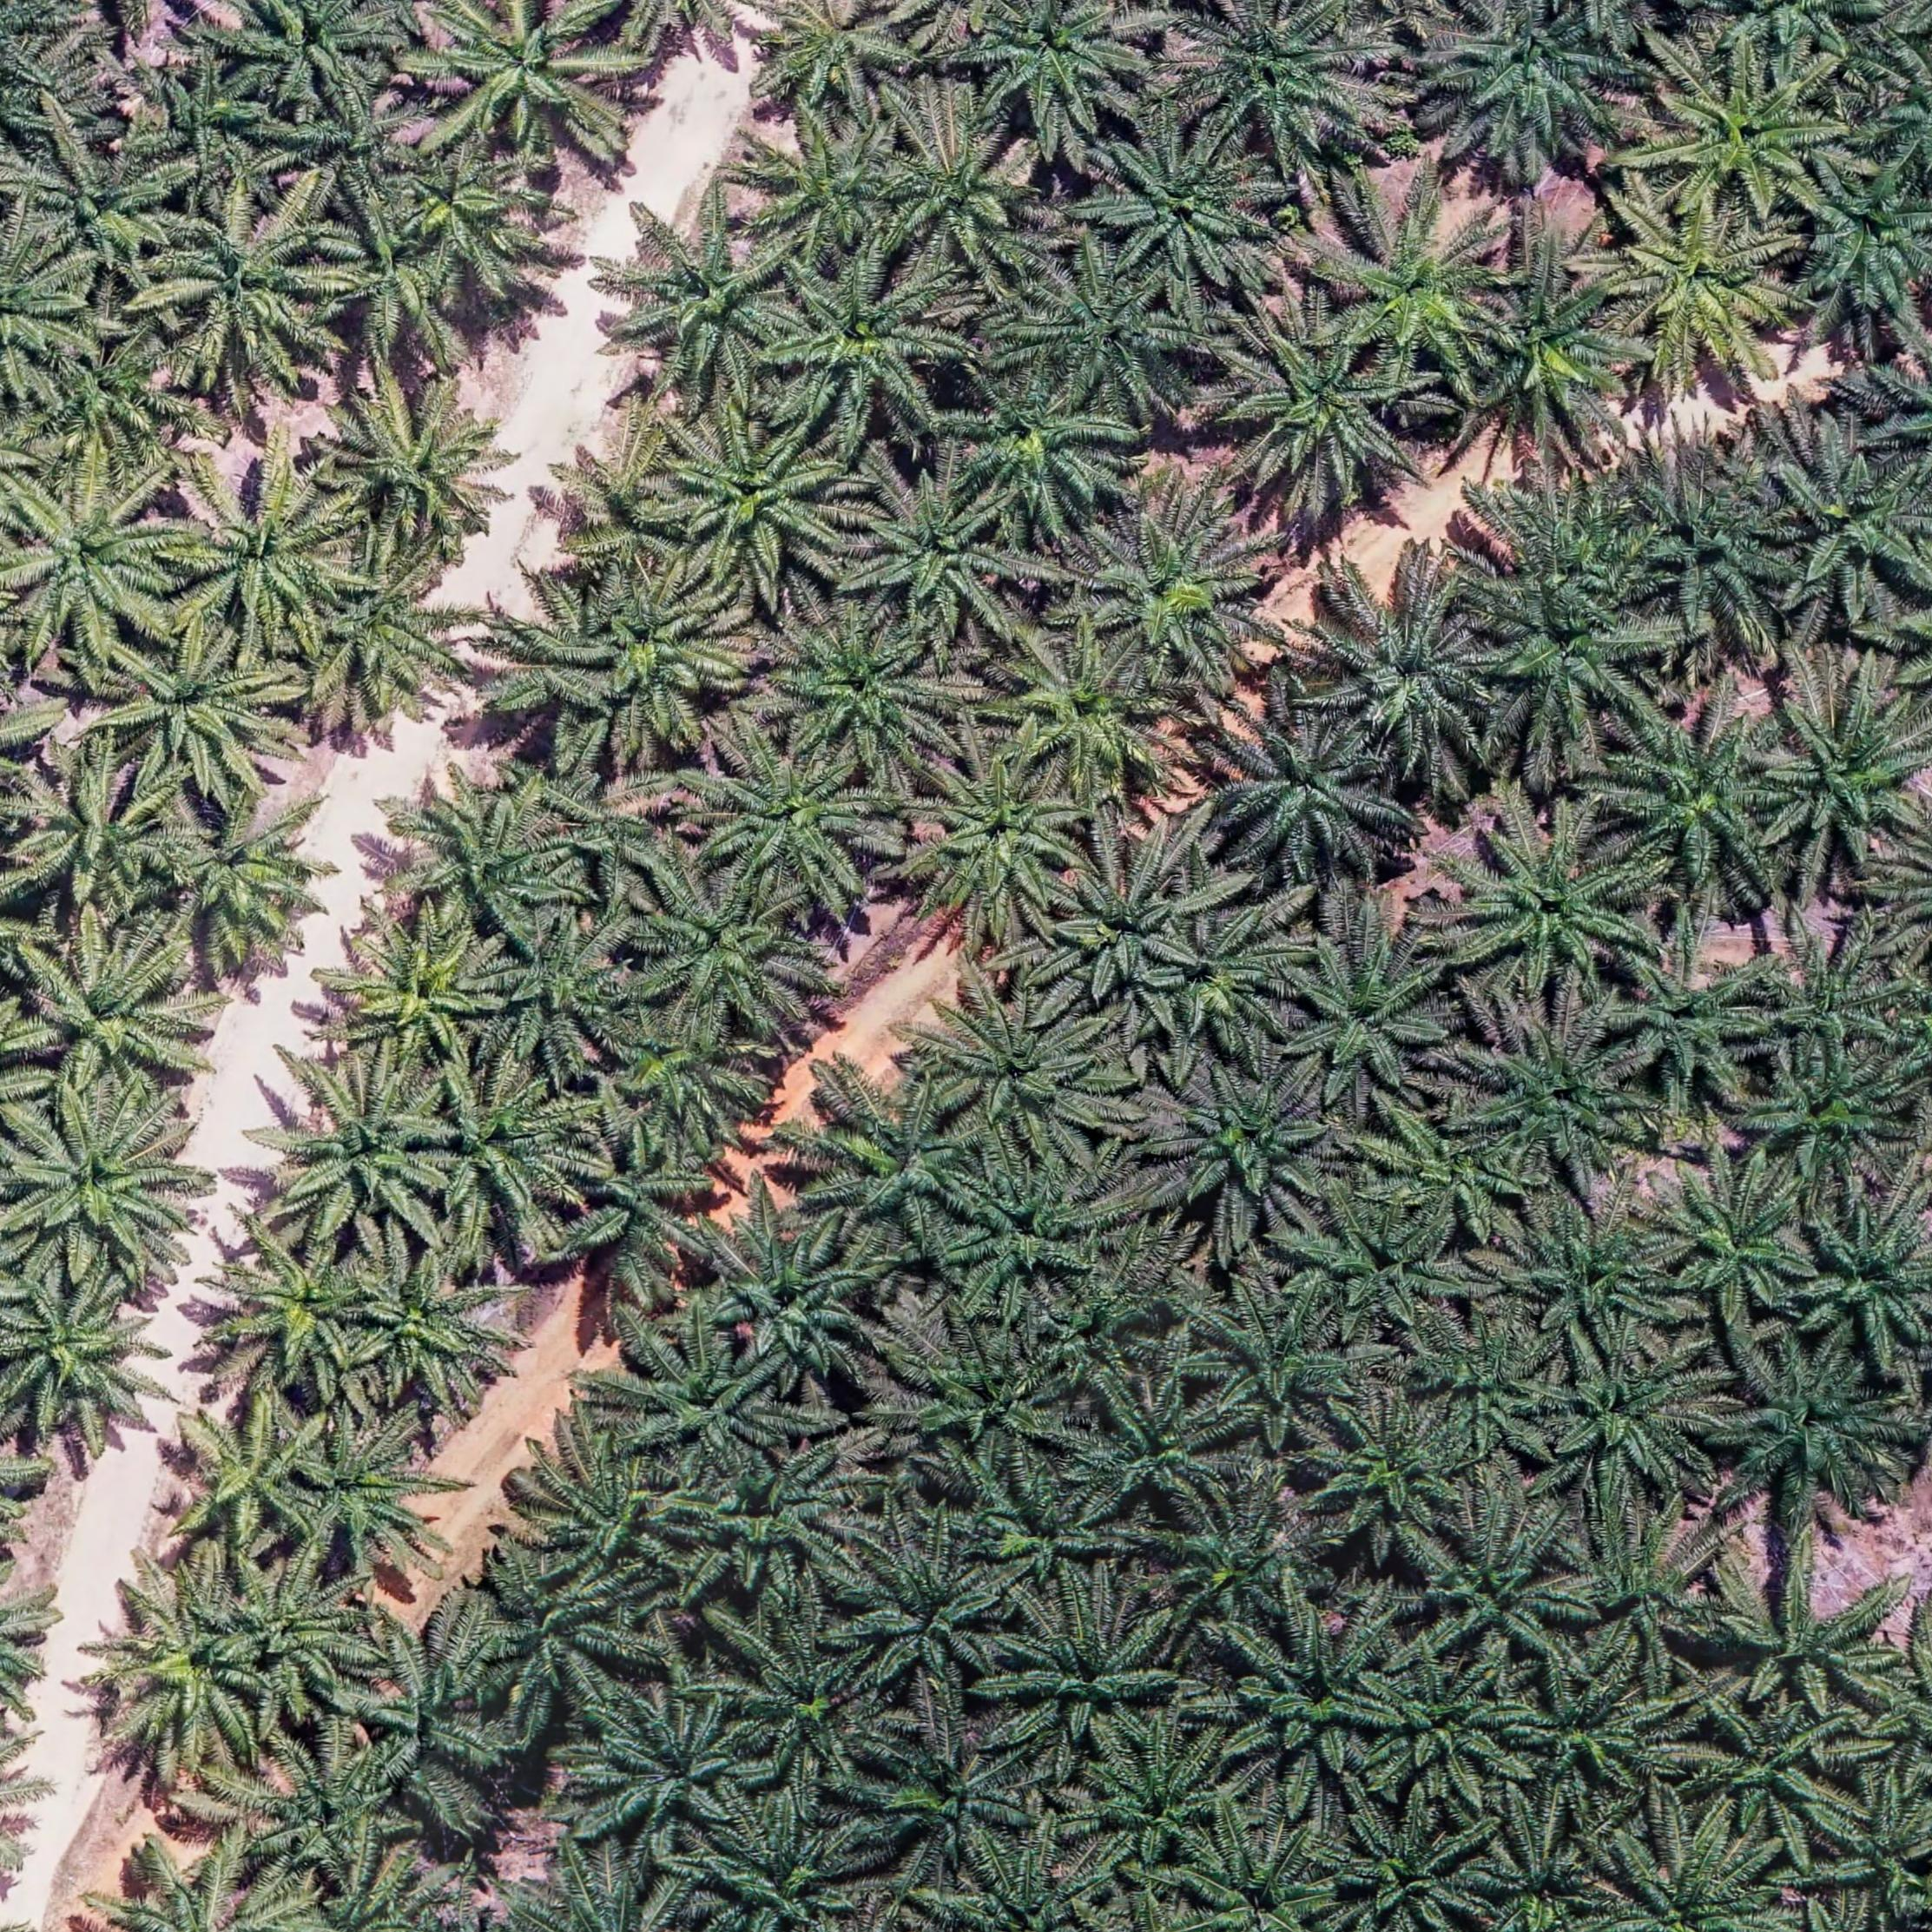palmtree: (520, 550, 754, 770), (83, 1557, 308, 1778), (1587, 462, 1796, 672), (1070, 481, 1281, 683), (1212, 310, 1426, 508), (1428, 800, 1644, 996), (140, 186, 349, 386), (653, 405, 860, 598), (879, 1304, 1086, 1497), (978, 619, 1185, 810), (748, 594, 962, 777), (1410, 4, 1635, 177), (315, 364, 520, 554), (694, 732, 901, 920), (1141, 1053, 1348, 1237), (1750, 432, 1932, 640), (5, 1092, 207, 1279), (92, 619, 297, 803), (165, 456, 364, 644), (1706, 1330, 1911, 1513), (888, 740, 1081, 932), (614, 205, 805, 400), (692, 1201, 886, 1392), (1306, 573, 1504, 761), (202, 1210, 396, 1399), (1601, 704, 1794, 893), (766, 249, 964, 433), (1200, 697, 1399, 879), (1638, 44, 1842, 223), (1601, 195, 1799, 377), (625, 865, 826, 1044), (416, 1076, 605, 1265), (1272, 931, 1463, 1118), (1316, 191, 1511, 375), (1081, 113, 1277, 294), (842, 451, 1030, 639), (412, 0, 633, 157), (1175, 4, 1387, 166), (16, 929, 207, 1109), (1750, 676, 1930, 865), (265, 1056, 456, 1235), (913, 968, 1100, 1146), (0, 1256, 166, 1456), (1467, 260, 1647, 444), (1707, 1545, 1902, 1714), (276, 1408, 458, 1589), (7, 467, 186, 651), (1077, 1709, 1267, 1882), (1529, 1338, 1718, 1509), (713, 1612, 893, 1790), (467, 1550, 656, 1720), (856, 1702, 1031, 1884), (1465, 1008, 1654, 1177), (9, 754, 191, 927), (1090, 1362, 1269, 1537), (345, 1640, 525, 1813), (1491, 1194, 1679, 1361), (1472, 584, 1665, 745), (685, 1435, 869, 1603), (1286, 1175, 1458, 1353), (846, 1529, 1014, 1709), (1732, 1033, 1916, 1198), (12, 111, 177, 295), (340, 1237, 515, 1408), (334, 908, 513, 1076), (775, 1074, 966, 1230), (288, 564, 465, 732), (1608, 943, 1785, 1111), (382, 145, 559, 311), (1355, 1647, 1532, 1813), (947, 370, 1131, 529), (1012, 242, 1189, 407), (1175, 1283, 1373, 1430), (1297, 1405, 1491, 1553), (1219, 1603, 1399, 1762), (621, 1322, 800, 1481), (1555, 1514, 1725, 1681), (165, 1392, 334, 1559), (499, 1426, 671, 1591), (2, 311, 177, 472), (1145, 890, 1316, 1053), (1414, 1513, 1589, 1672), (1039, 839, 1205, 1005), (579, 1704, 755, 1859), (954, 0, 1155, 136), (1642, 1164, 1817, 1320), (591, 1005, 770, 1155), (1785, 149, 1932, 329), (481, 909, 646, 1070), (881, 113, 1046, 271), (955, 1467, 1138, 1608), (1686, 1700, 1859, 1849), (241, 1730, 414, 1879), (389, 791, 566, 932), (681, 1805, 878, 1932), (745, 117, 916, 262), (1007, 1592, 1169, 1744), (1361, 1111, 1534, 1253), (939, 1164, 1122, 1299), (1507, 1677, 1683, 1813), (1159, 1504, 1304, 1663), (211, 0, 403, 117), (175, 810, 331, 954), (1790, 1201, 1932, 1352), (1323, 1810, 1495, 1932), (1162, 1815, 1339, 1932), (752, 0, 925, 115), (1762, 947, 1907, 1070), (1394, 1313, 1550, 1426)
